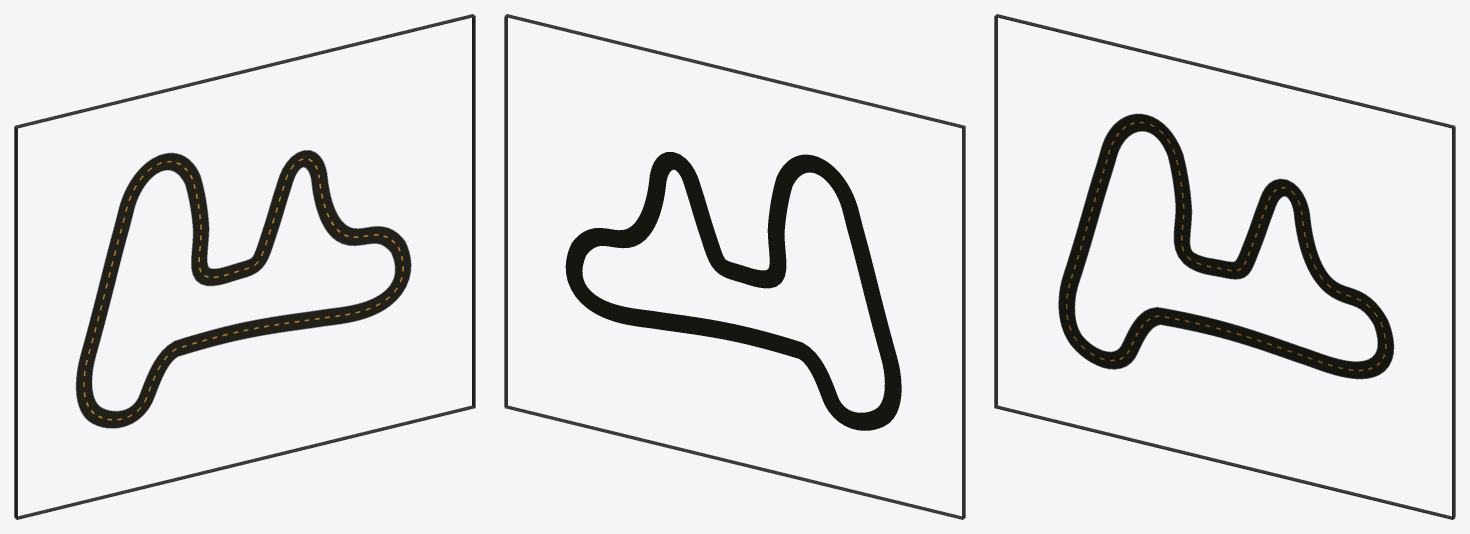
Rendered from track.obj.
The picture shows the model from 3 angles, left to right: view 1: azimuth 30°, elevation 25°; view 2: azimuth 150°, elevation 25°; view 3: azimuth 330°, elevation 25°; orthographic projection.
Bounding box in the file's own units: 29.18 × 23.86 × 0.3.
4 materials, 4 textured.
